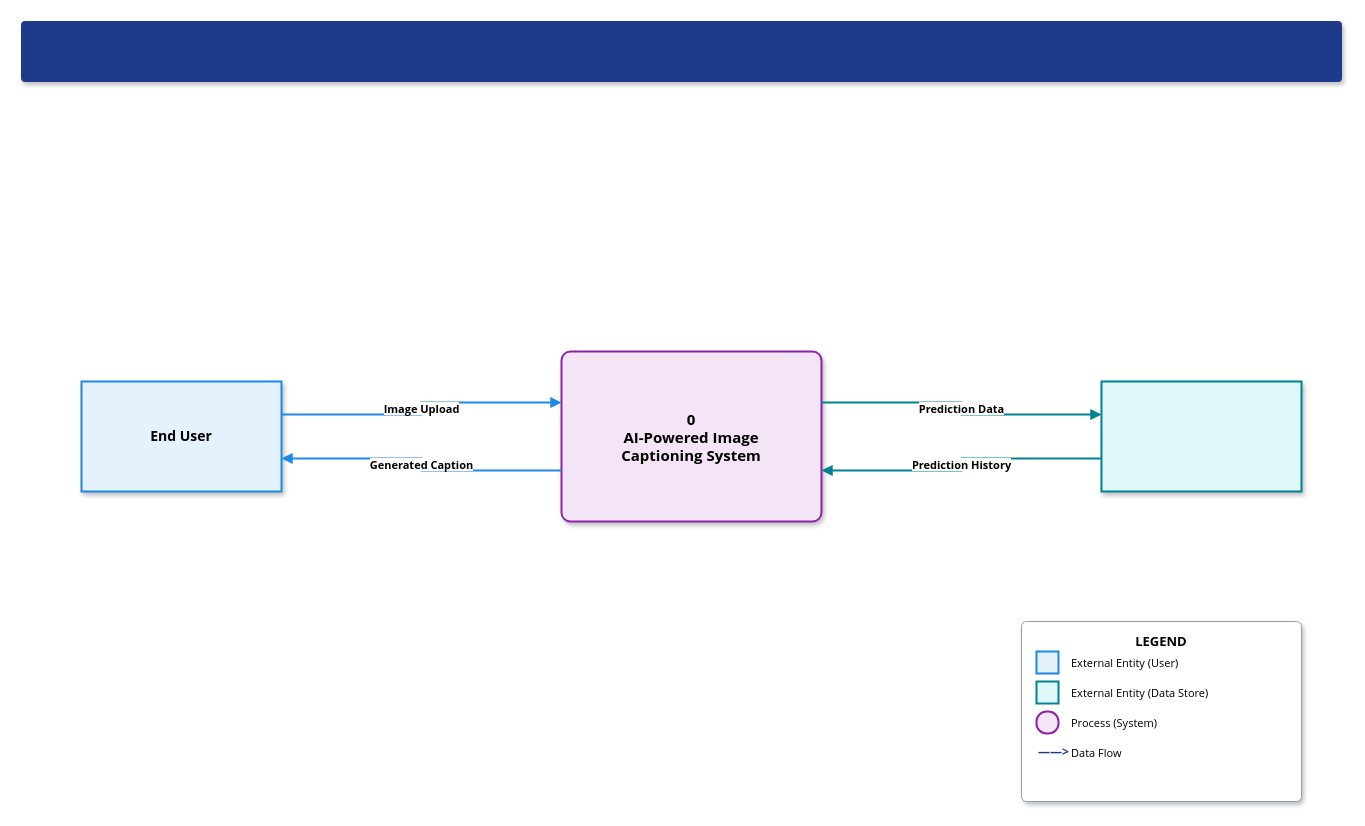
This 1365x826 diagram has some shape labels left out. Each missing label, with the centre of its shape:
"AI-POWERED IMAGE CAPTIONING SYSTEM — DFD LEVEL 0 (CONTEXT DIAGRAM)" belongs at point (682, 52).
"PostgreSQL Database" belongs at point (1202, 437).
